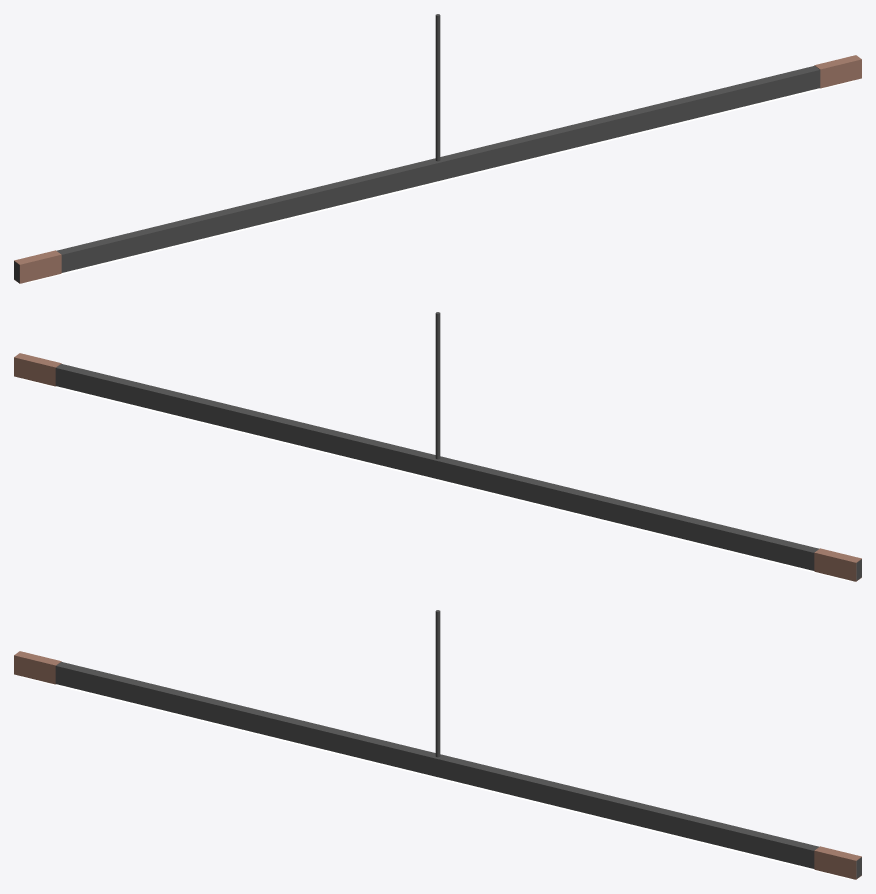
File: pendente-fit10-couro.glb
3 views of the same model, one above another, from view 1: azimuth 30°, elevation 25°; view 2: azimuth 150°, elevation 25°; view 3: azimuth 330°, elevation 25° (orthographic).
Size of the model in its own units: 1.21 by 0.228 by 0.0147.
